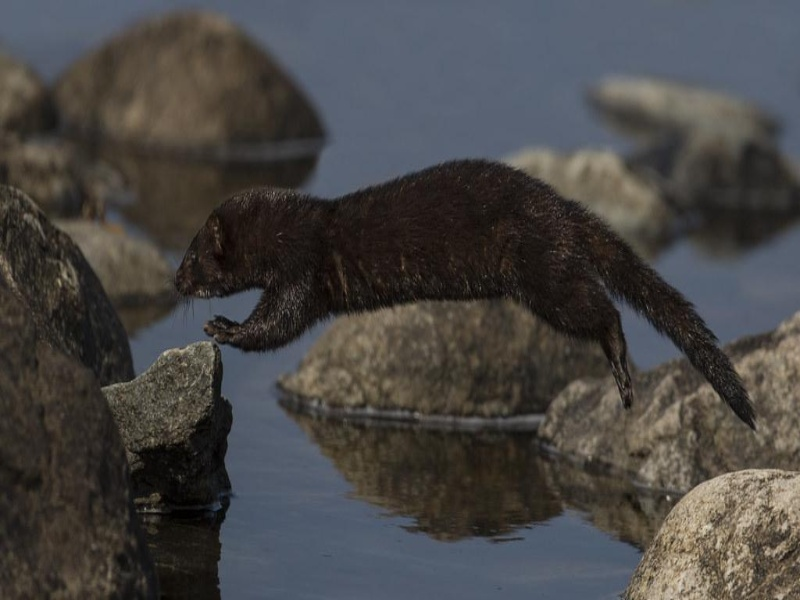minkish: (172, 153, 760, 437)
